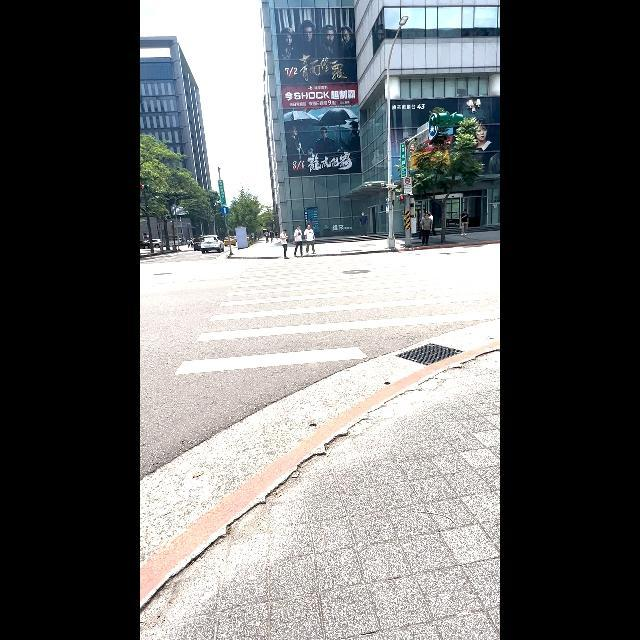sidewalk: (140, 244, 500, 609)
